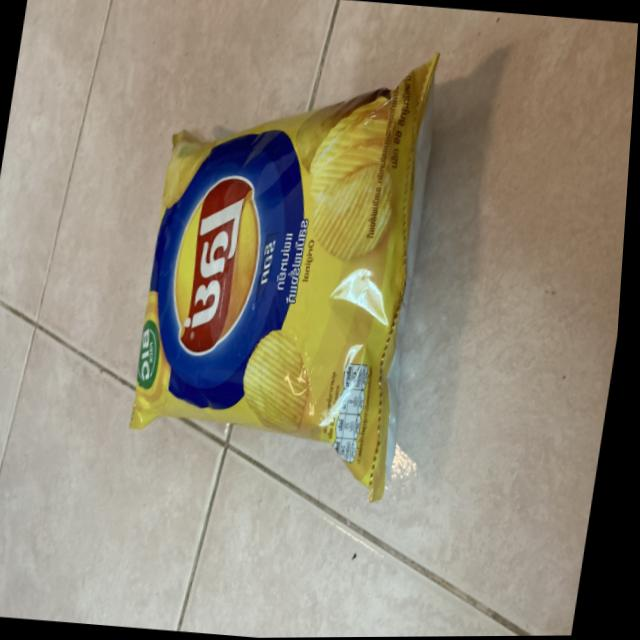LayYellow: (130, 105, 452, 475)
